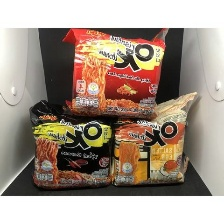snack: (56, 27, 172, 124), (104, 87, 205, 189), (24, 95, 118, 191)
